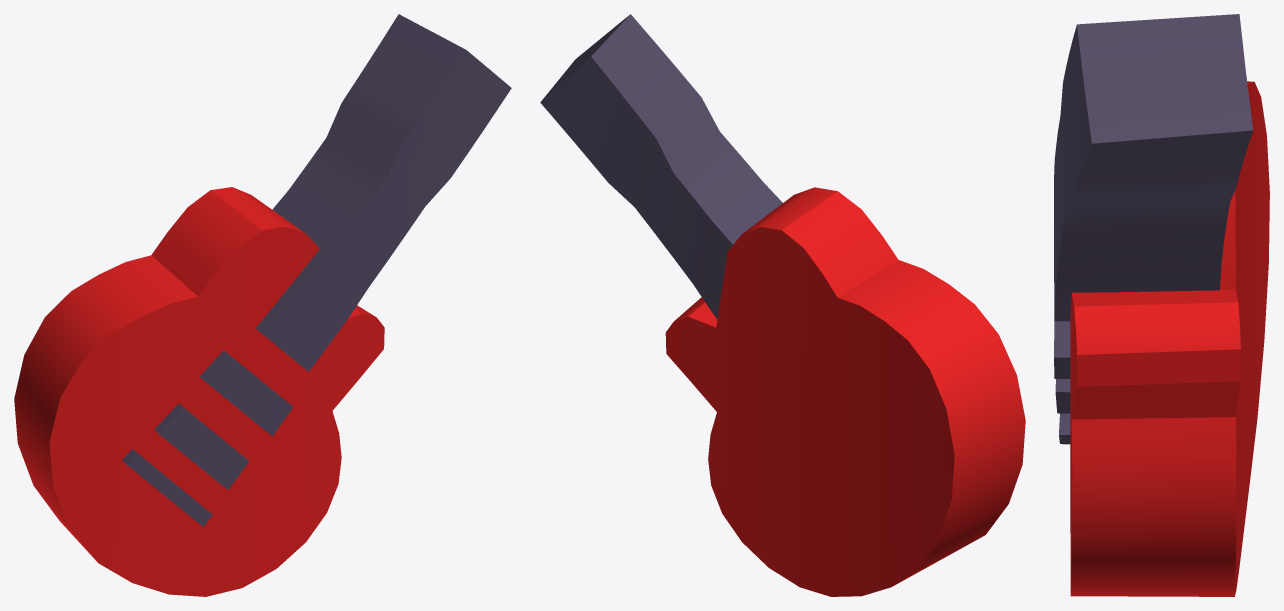
The model's file is Guitar_Outer.fbx.
The picture shows the model from 3 angles, left to right: view 1: azimuth 30°, elevation 25°; view 2: azimuth 150°, elevation 25°; view 3: azimuth 270°, elevation 25°; orthographic projection. The views are drawn at different scales.
Visible parts, largest first — view 1: Guitar_Outer; view 2: Guitar_Outer; view 3: Guitar_Outer.
Boxes of the visible parts, <box> form: Guitar_Outer: <box>14,14,511,596</box>; Guitar_Outer: <box>540,14,1025,596</box>; Guitar_Outer: <box>1054,14,1269,596</box>.
Bounding box in the file's own units: 34.07 × 34.42 × 9.19.
